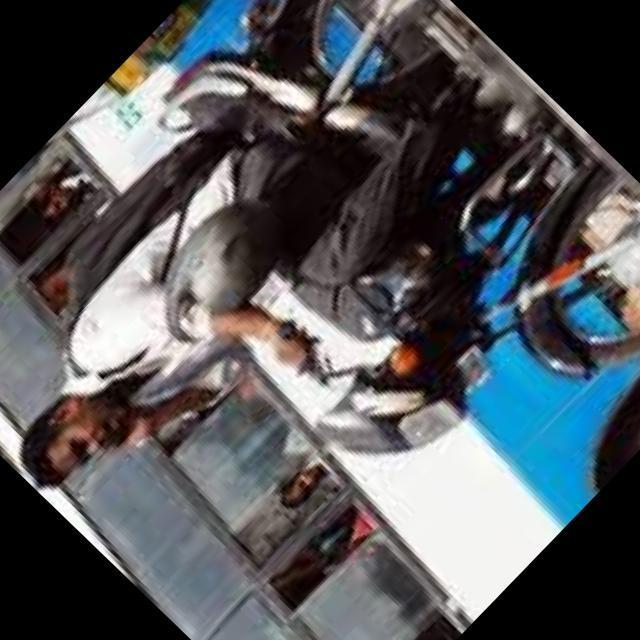USING_MOBILE: (75, 328, 254, 509)
